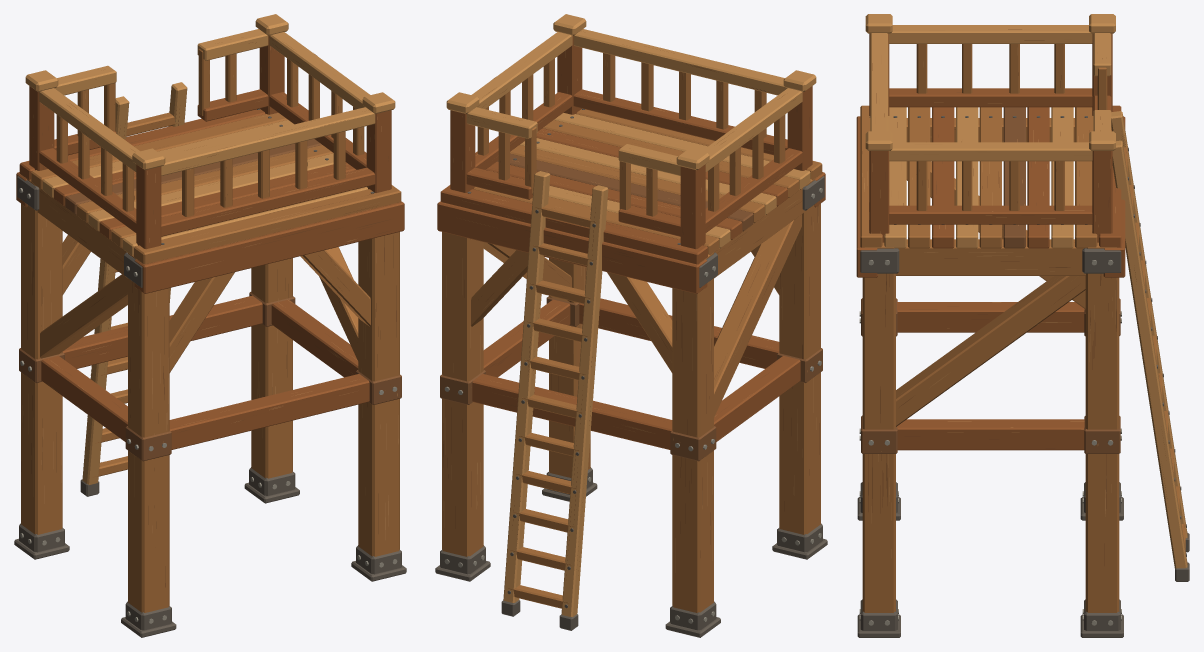
Rendered from wsc-module-016-rock-lookout-platform.glb.
The picture shows the model from 3 angles, left to right: view 1: azimuth 30°, elevation 25°; view 2: azimuth 150°, elevation 25°; view 3: azimuth 270°, elevation 25°; orthographic projection. The views are drawn at different scales.
Visible parts, largest first — view 1: Cedar amber, Red cedar, Honey endgrain, Old bronze iron, Weathered timber, Weathered timber color details, Peg heads; view 2: Cedar amber, Red cedar, Honey endgrain, Old bronze iron, Weathered timber, Weathered timber color details; view 3: Cedar amber, Red cedar, Honey endgrain, Old bronze iron, Weathered timber, Weathered timber color details, Peg heads.
Boxes of the visible parts, x1,y1,x2,y2 form: Cedar amber: (21,48,401,612); Red cedar: (16,36,404,449); Honey endgrain: (25,14,395,484); Old bronze iron: (14,108,406,637); Weathered timber: (19,139,401,461); Weathered timber color details: (21,38,398,587); Peg heads: (19,188,397,623); Cedar amber: (442,53,822,612); Red cedar: (437,36,825,449); Honey endgrain: (446,14,816,616); Old bronze iron: (435,108,827,637); Weathered timber: (440,154,822,461); Weathered timber color details: (443,41,819,598); Cedar amber: (860,44,1185,612); Red cedar: (856,33,1125,450); Honey endgrain: (865,14,1187,568); Old bronze iron: (857,116,1189,637); Weathered timber: (861,107,1120,453); Weathered timber color details: (862,29,1184,565); Peg heads: (859,260,1121,625).
Bounding box in the file's own units: 2.71 × 4.59 × 2.81.
